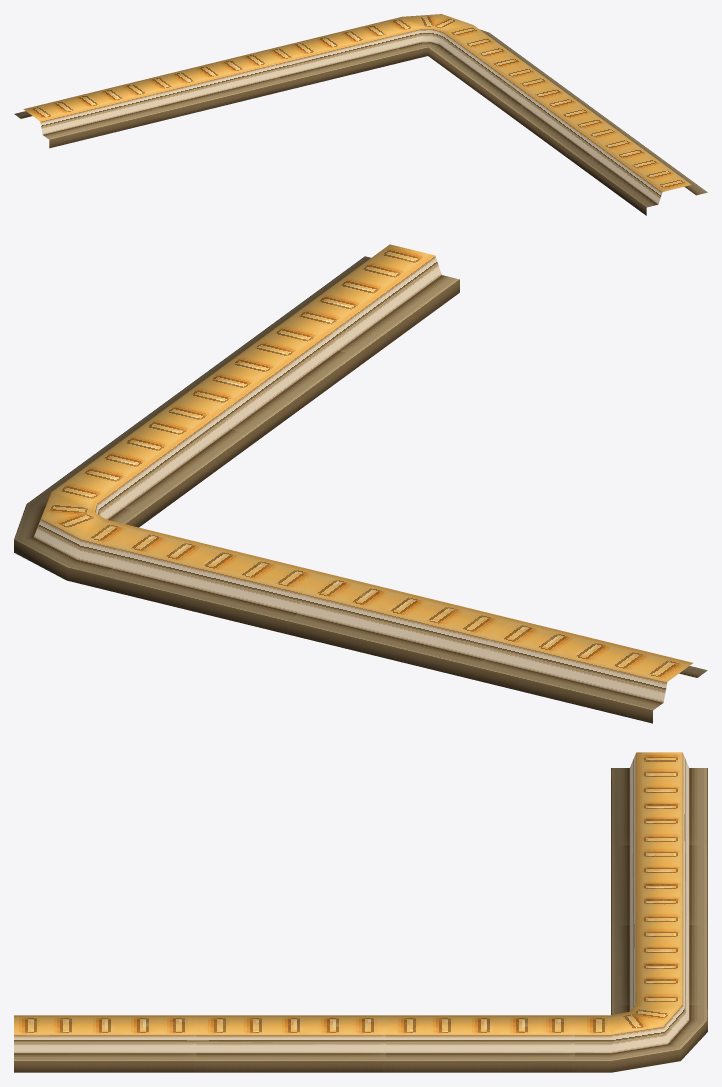
File: a_SEblockA02.glb
3 views of the same model, one above another, from view 1: azimuth 30°, elevation 25°; view 2: azimuth 150°, elevation 25°; view 3: azimuth 270°, elevation 25° (orthographic). The views are drawn at different scales.
Parts seen in each view (by area): view 1: a_SEblockA02; view 2: a_SEblockA02; view 3: a_SEblockA02.
Boxes of the visible parts, left/top/right/bottom form: a_SEblockA02: left=14, top=14, right=707, bottom=215; a_SEblockA02: left=14, top=244, right=707, bottom=723; a_SEblockA02: left=14, top=752, right=707, bottom=1072.
Size of the model in its own units: 1.16 by 0.0505 by 1.16.
Materials: 1 (1 with a texture image).
